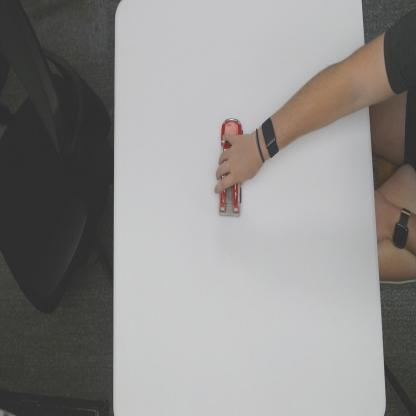Arm: (284, 32, 370, 150)
Firetruck: (219, 116, 243, 220)
Hand: (214, 127, 261, 193)
